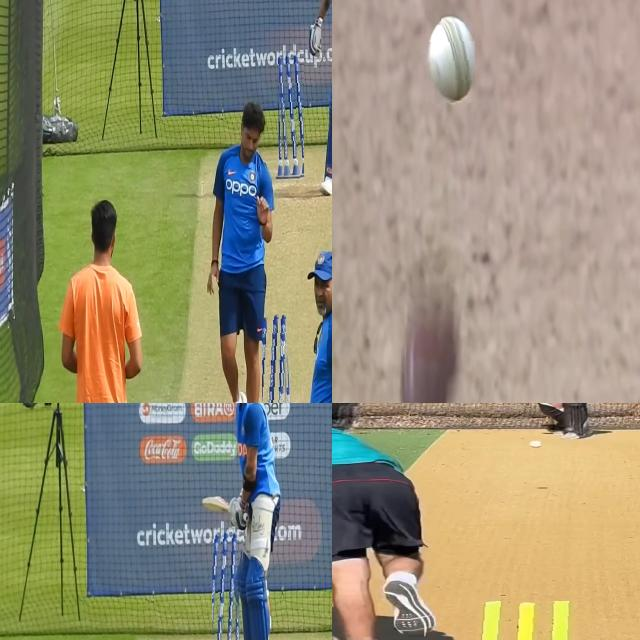Cricket ball: (424, 13, 476, 104), (528, 439, 543, 448)
Stumps: (467, 601, 594, 640), (276, 54, 304, 179), (212, 531, 243, 640), (262, 313, 293, 403)
